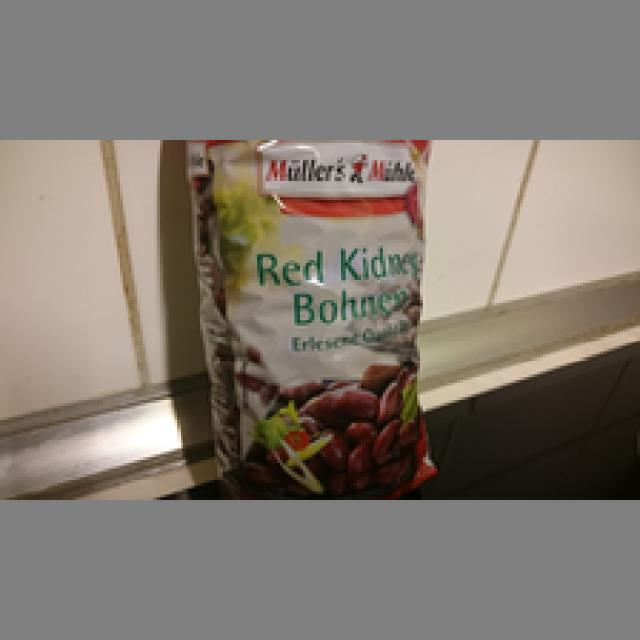groceries: (183, 137, 440, 494)
